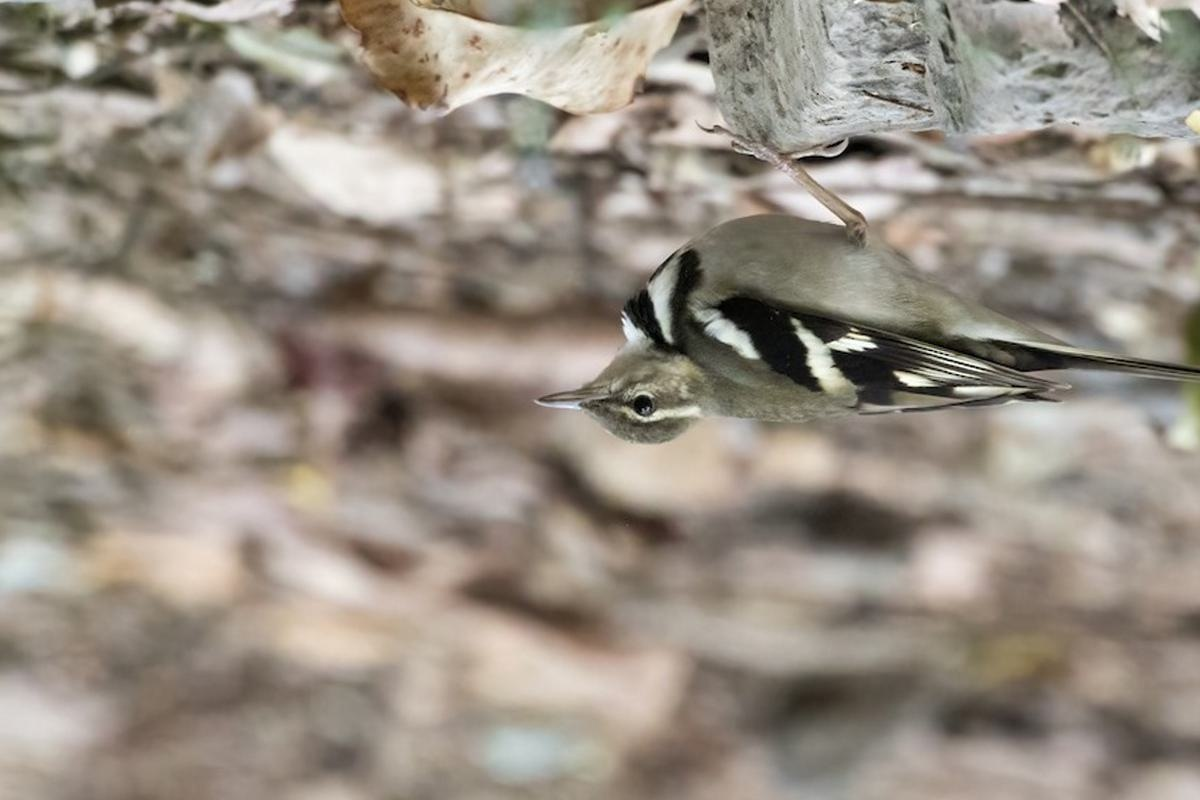wagtail: (501, 135, 1146, 445)
